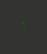seven: (19, 20, 26, 34)
